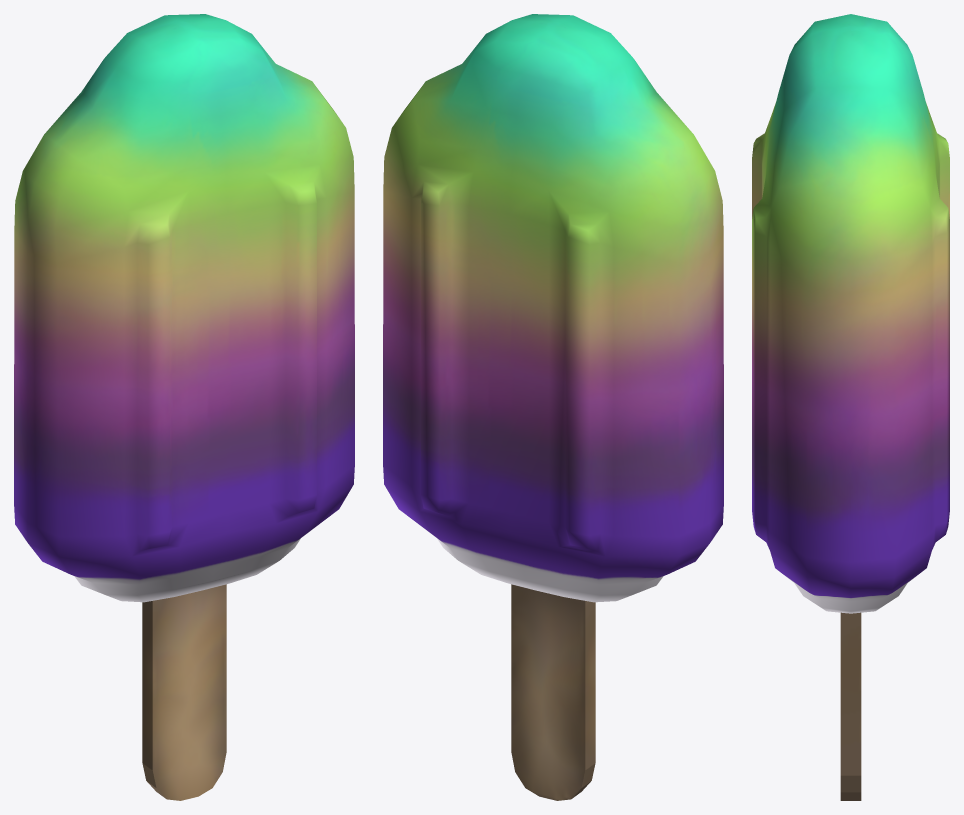
Rendered from ice_cream_001.fbx.
The picture shows the model from 3 angles, left to right: view 1: azimuth 30°, elevation 25°; view 2: azimuth 150°, elevation 25°; view 3: azimuth 270°, elevation 25°; orthographic projection.
Parts seen in each view (by area): view 1: ice_cream_001; view 2: ice_cream_001; view 3: ice_cream_001.
Part boxes in pixels (bbox=[...]): ice_cream_001: bbox=[14, 14, 354, 800]; ice_cream_001: bbox=[383, 14, 723, 800]; ice_cream_001: bbox=[752, 14, 949, 800].
Bounding box in the file's own units: 0.7236 × 1.7 × 0.397.
1 material, 1 textured.
